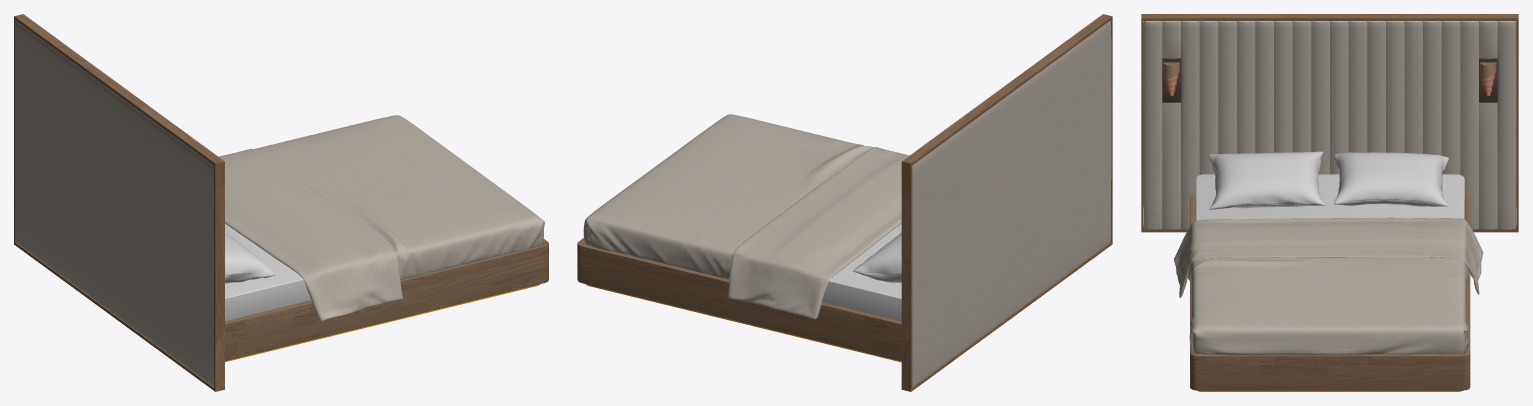
File: bed_01.glb
3 renders of one model, left to right at view 1: azimuth 30°, elevation 25°; view 2: azimuth 150°, elevation 25°; view 3: azimuth 270°, elevation 25°, orthographic. The views are drawn at different scales.
Parts seen in each view (by area): view 1: Object_7, Object_6, Object_2, Object_8, Object_5; view 2: Object_7, Object_6, Object_2, Object_8, Object_5; view 3: Object_7, Object_6, Object_8, Object_2, Object_3, Object_4, Object_5.
Boxes of the visible parts, <box> form: Object_7: <box>15,21,213,386</box>; Object_6: <box>219,115,544,321</box>; Object_2: <box>14,14,548,391</box>; Object_8: <box>225,223,311,321</box>; Object_5: <box>225,284,540,361</box>; Object_7: <box>912,21,1111,386</box>; Object_6: <box>583,114,909,319</box>; Object_2: <box>577,14,1112,391</box>; Object_8: <box>822,223,901,321</box>; Object_5: <box>586,284,901,362</box>; Object_7: <box>1143,21,1516,229</box>; Object_6: <box>1174,217,1483,354</box>; Object_8: <box>1195,151,1464,220</box>; Object_2: <box>1141,14,1518,390</box>; Object_3: <box>1162,58,1497,102</box>; Object_4: <box>1163,62,1496,95</box>; Object_5: <box>1197,390,1462,391</box>.
Bounding box in the file's own units: 8.17 × 4.94 × 7.87.
Materials: 6 (4 with a texture image).
